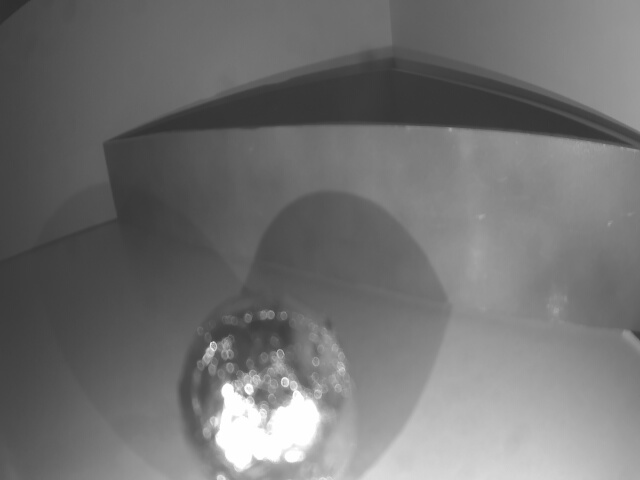Green: (102, 141, 640, 325)
Live: (175, 298, 357, 480)
